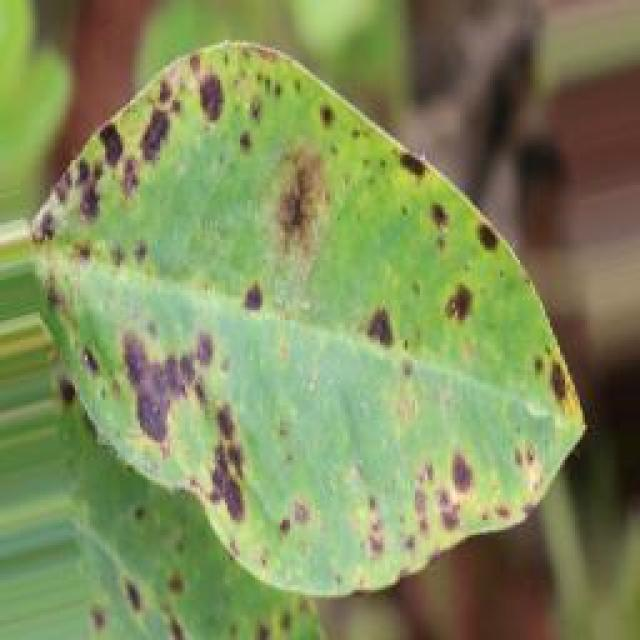Yellowish: (2, 56, 604, 596)
